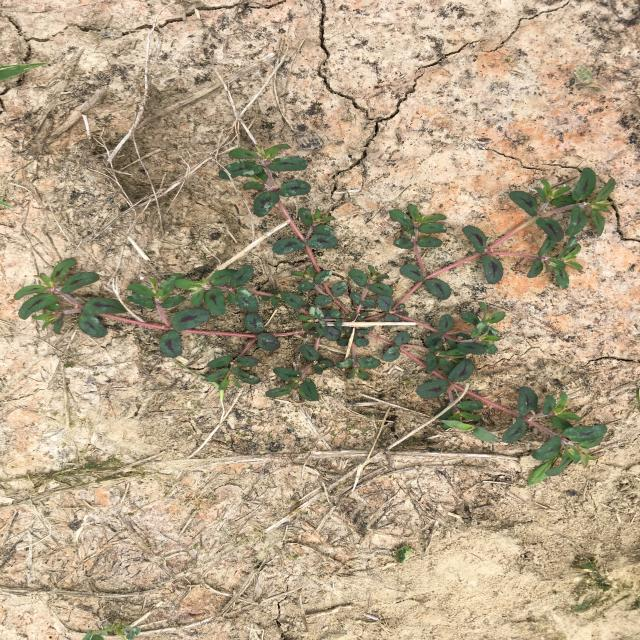SpottedSpurge: (13, 143, 617, 477)
